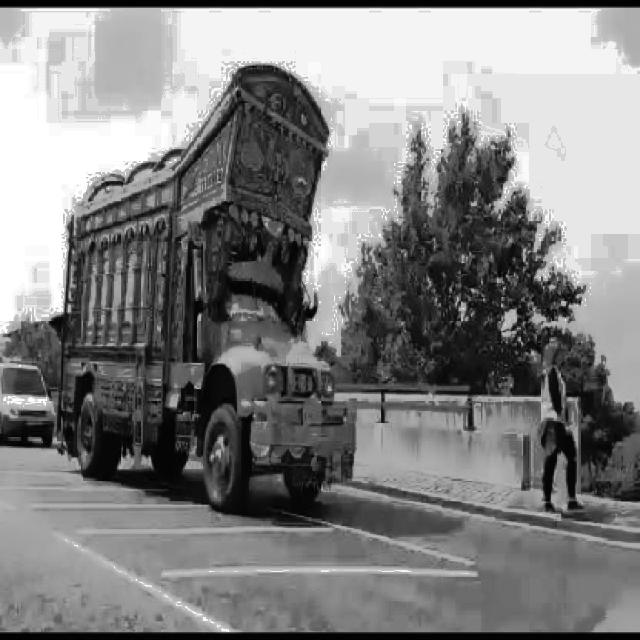HCV: (60, 77, 353, 496)
